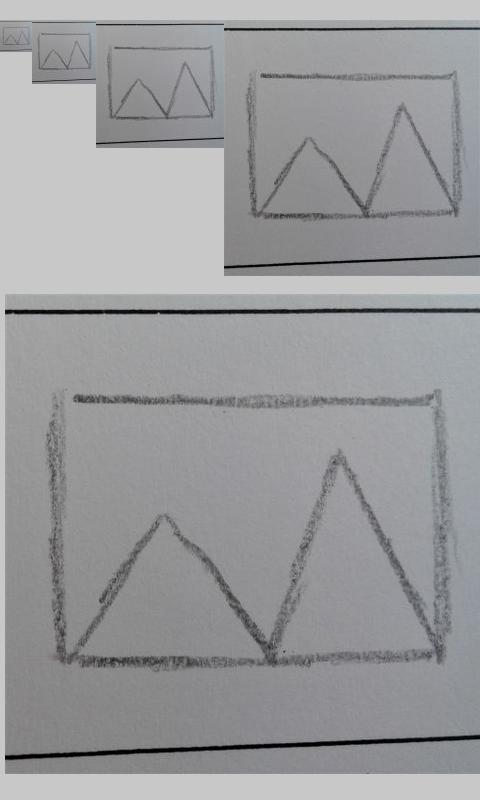image_view: (46, 394, 452, 673), (244, 68, 463, 224), (108, 46, 215, 120), (37, 33, 92, 70), (2, 26, 31, 46)
